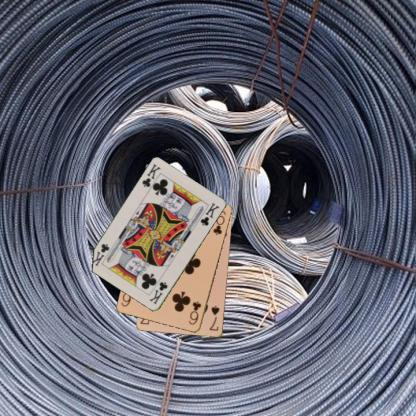6c: (186, 299, 202, 326)
7s: (207, 303, 221, 332)
Kc: (140, 162, 162, 189), (146, 280, 168, 306)
